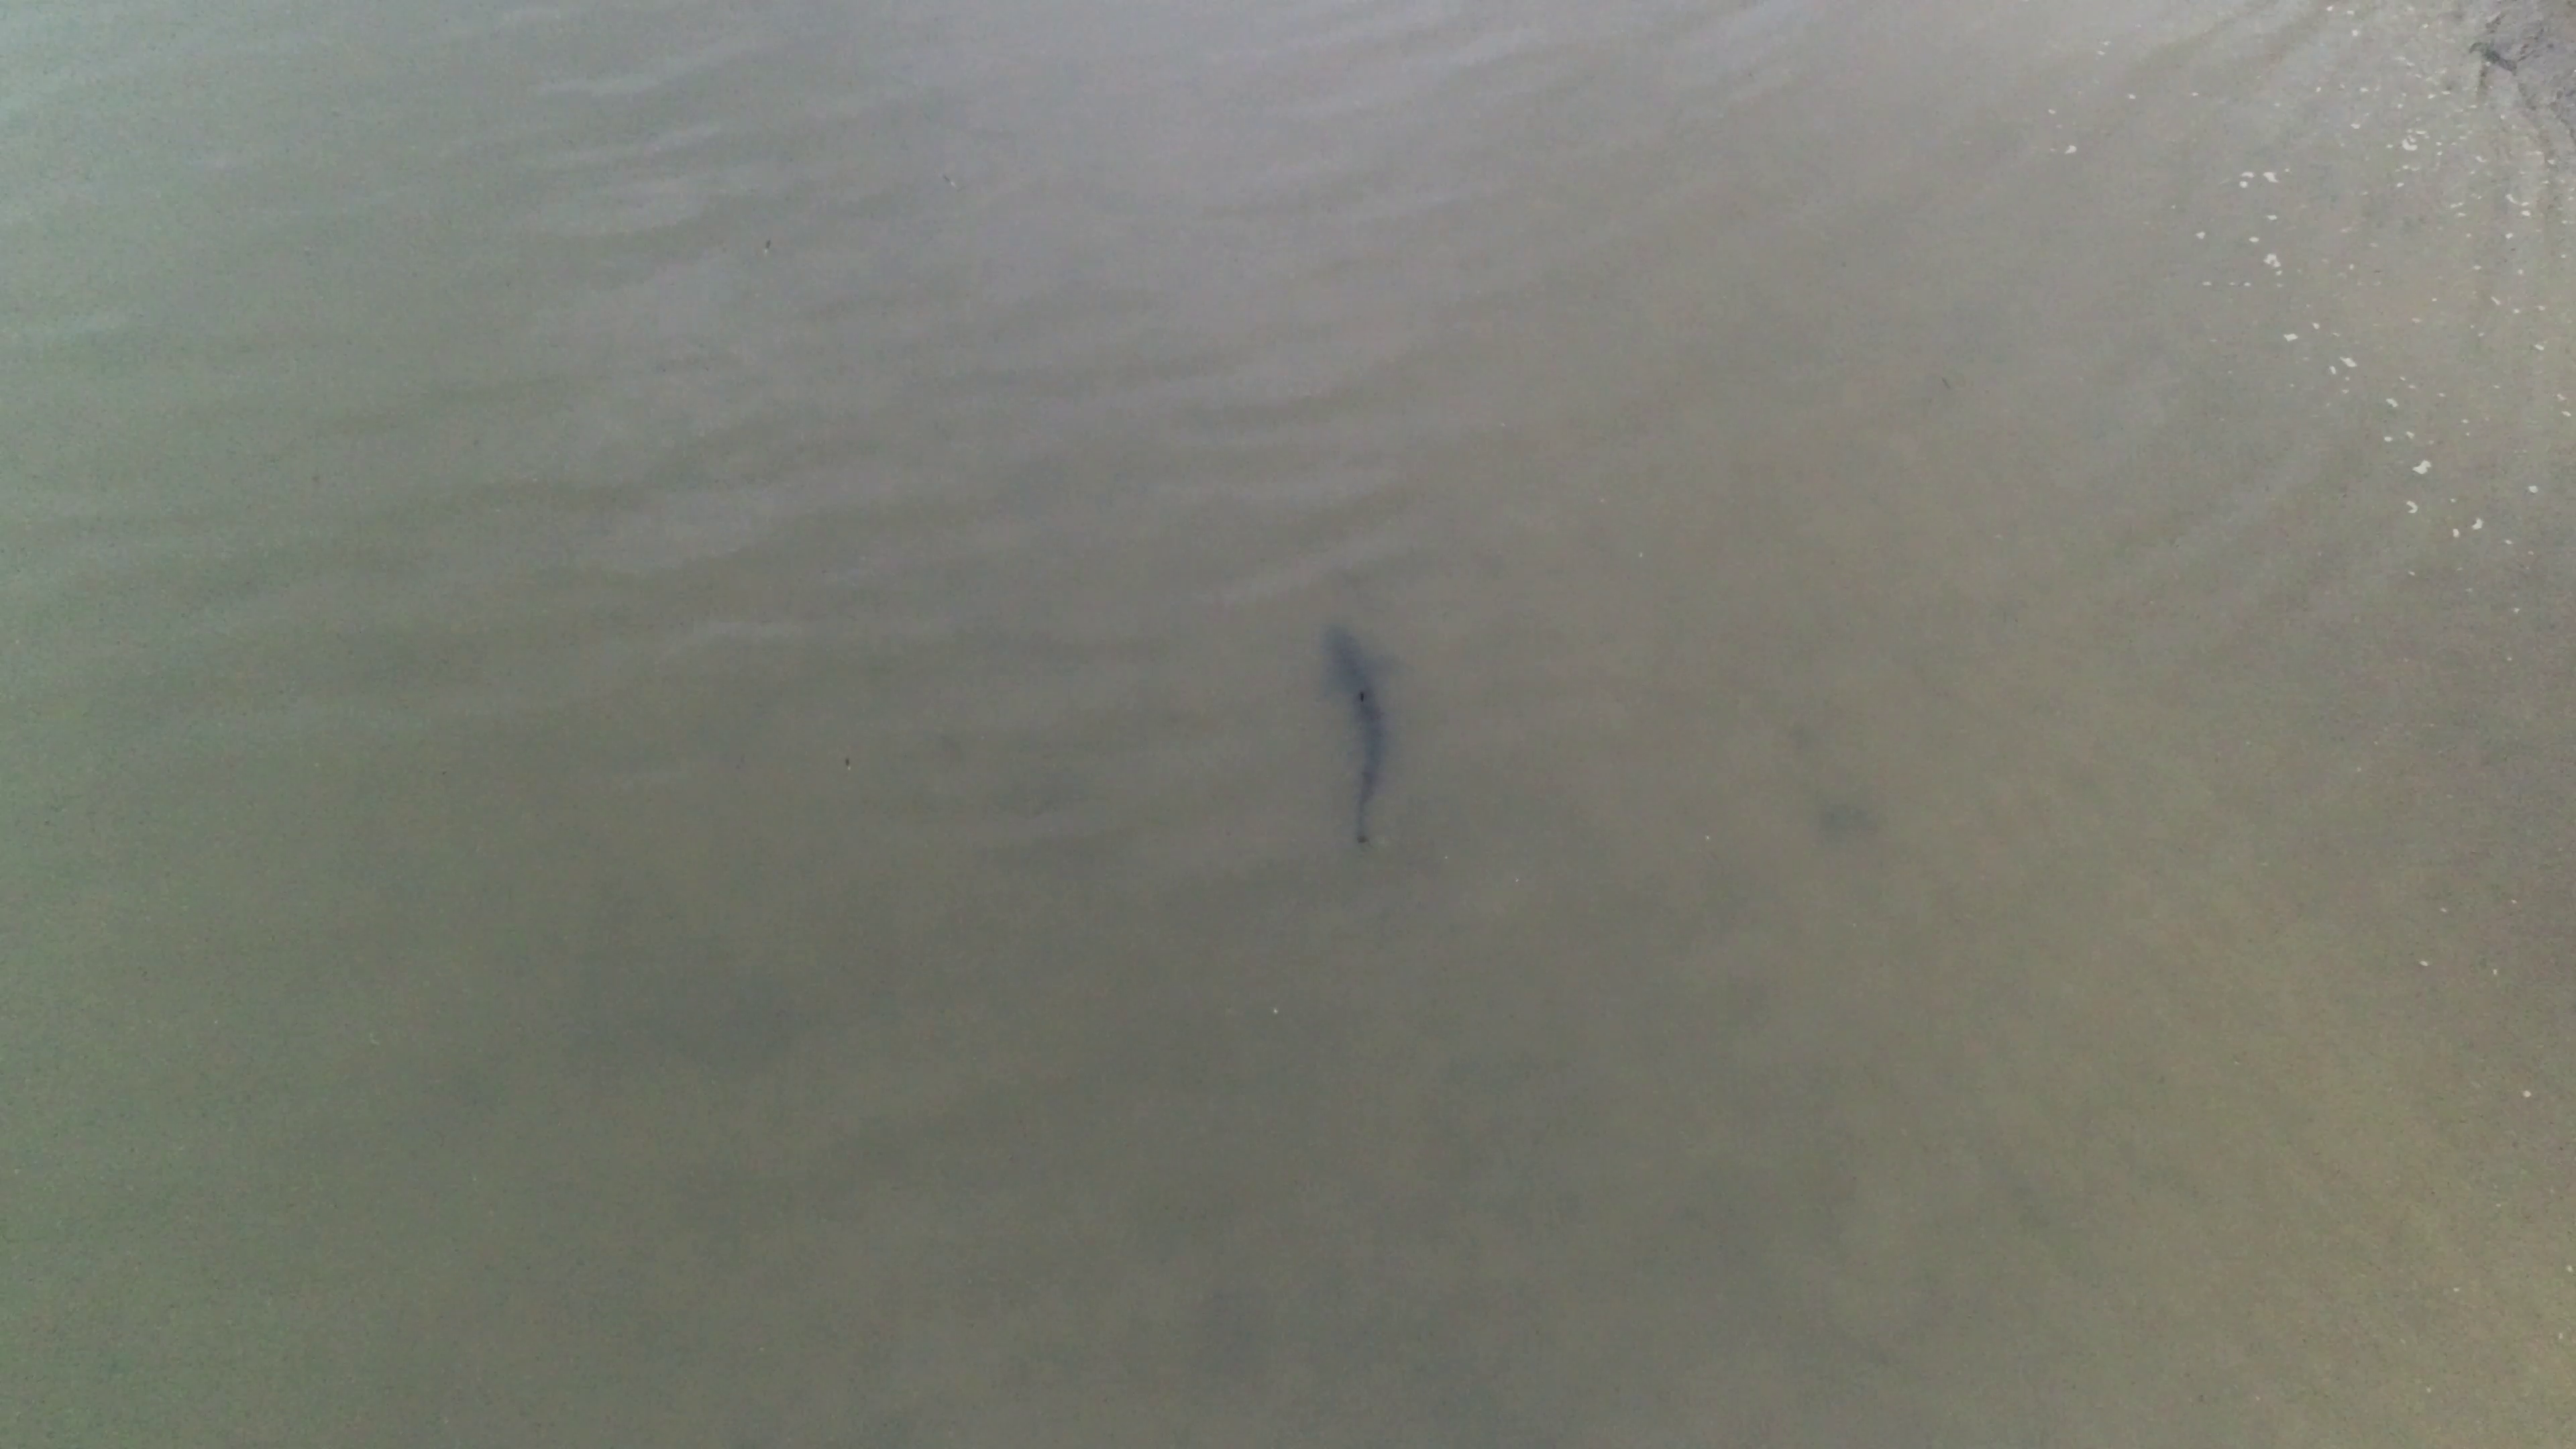shark: (1490, 828, 1755, 964)
